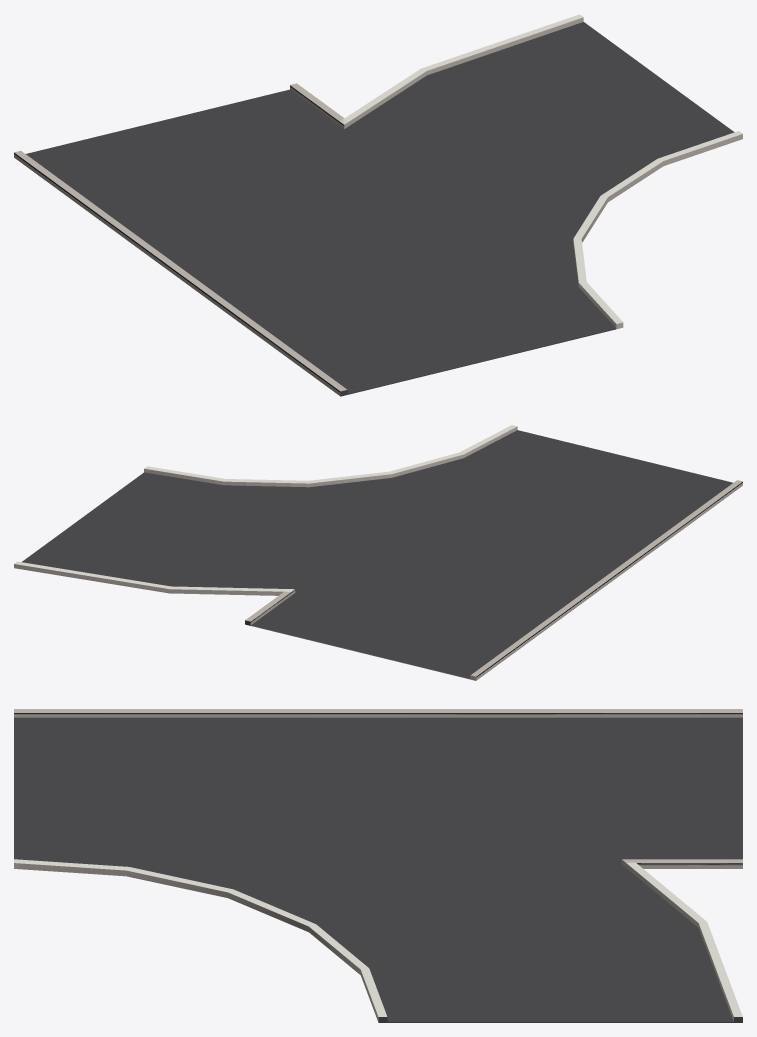
The model's file is road05.FBX.
The picture shows the model from 3 angles, top to bottom: view 1: azimuth 30°, elevation 25°; view 2: azimuth 150°, elevation 25°; view 3: azimuth 270°, elevation 25°; orthographic projection. The views are drawn at different scales.
Visible parts, largest first — view 1: 001; view 2: 001; view 3: 001.
Part boxes in pixels (left/top/right/bottom): 001: left=14, top=14, right=742, bottom=396; 001: left=14, top=425, right=742, bottom=680; 001: left=14, top=709, right=742, bottom=1022.
Size of the model in its own units: 157 by 1.39 by 157.
Materials: 1 (1 with a texture image).
